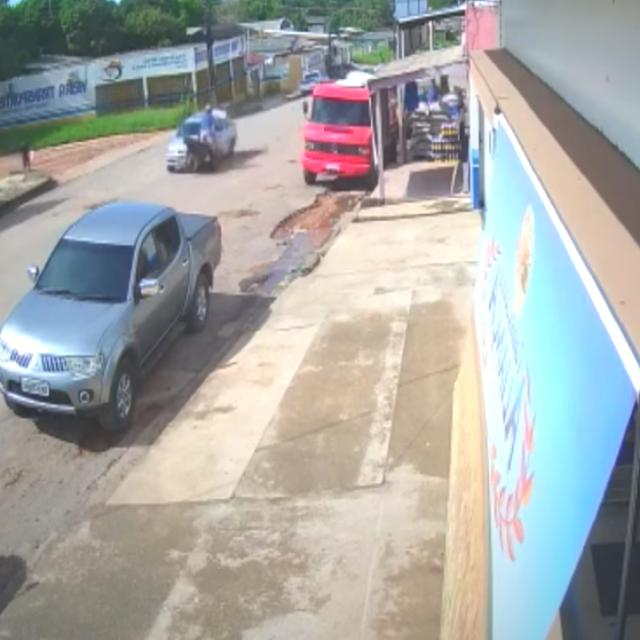accident: (164, 101, 238, 177)
